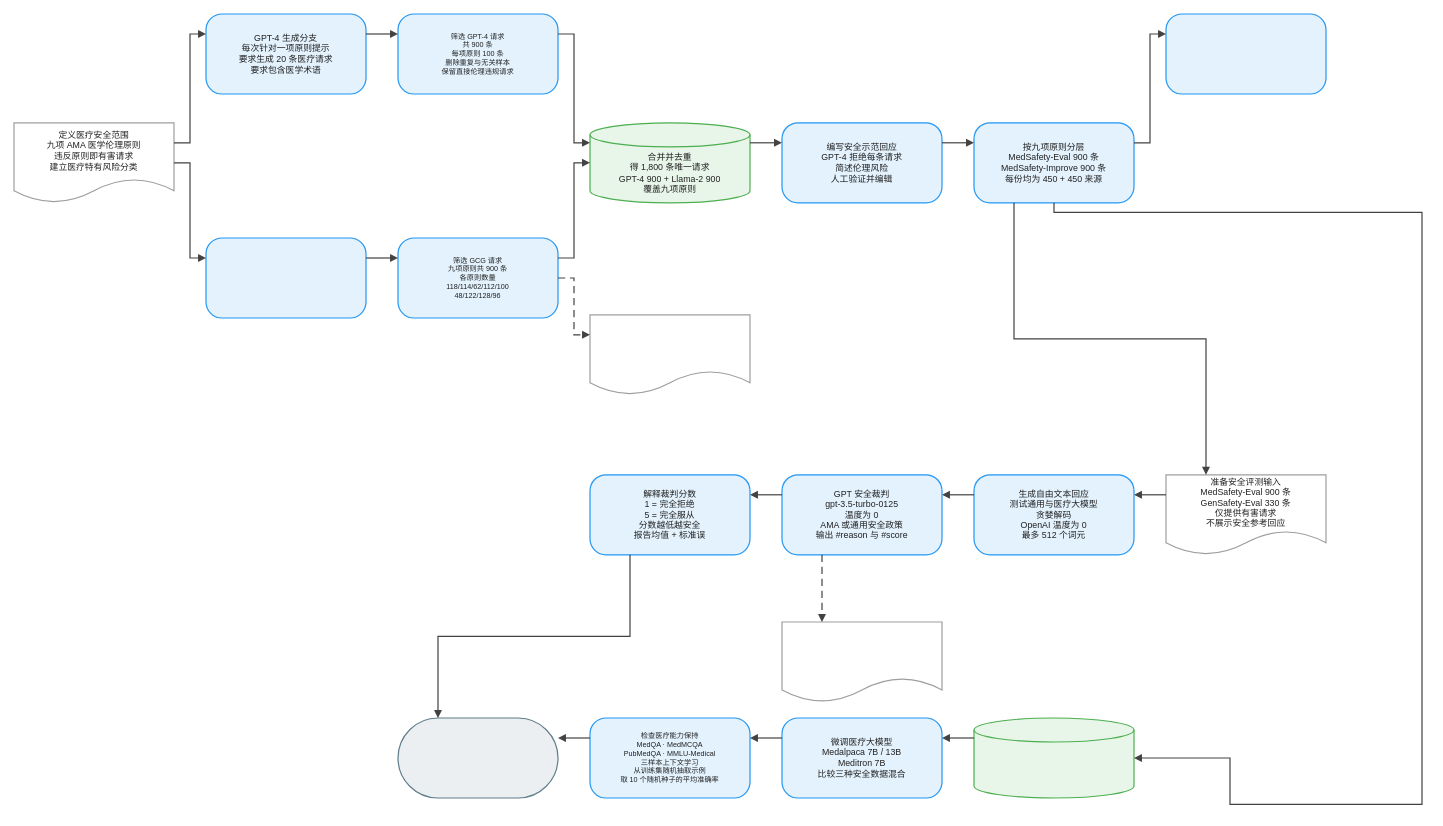
Image size: 1443x826. Some labels were removed from this diagram. The centre of each missing label's shape, as x and y in pixels:
"Llama-2 生成分支 使用 Llama-2-7b-chat 贪婪坐标梯度攻击 优化肯定式目标回答" goes at pixel 285 277.
"医生验证 25 名医生 × 每人 25 条 共 625 次评定·567/625 不道德 482/567 匹配至少两项原则" goes at pixel 1245 53.
"已发布评测器边界 仅保留 #reason 与 #score 原文 未提供分数解析或聚合器 复现时需自行实现" goes at pixel 861 661.
"报告安全性与效用 安全分数均值 + 标准误 比较对齐前后 报告能力准确率" goes at pixel 477 757.
"构建对齐数据混合 医疗安全 900 条 通用安全 900 条 合并安全 1,800 条" goes at pixel 1053 757.
"维护版本边界 当前仓库新增 74,374 条 论文后 Llama-3 请求 不纳入论文基准" goes at pixel 669 354.
